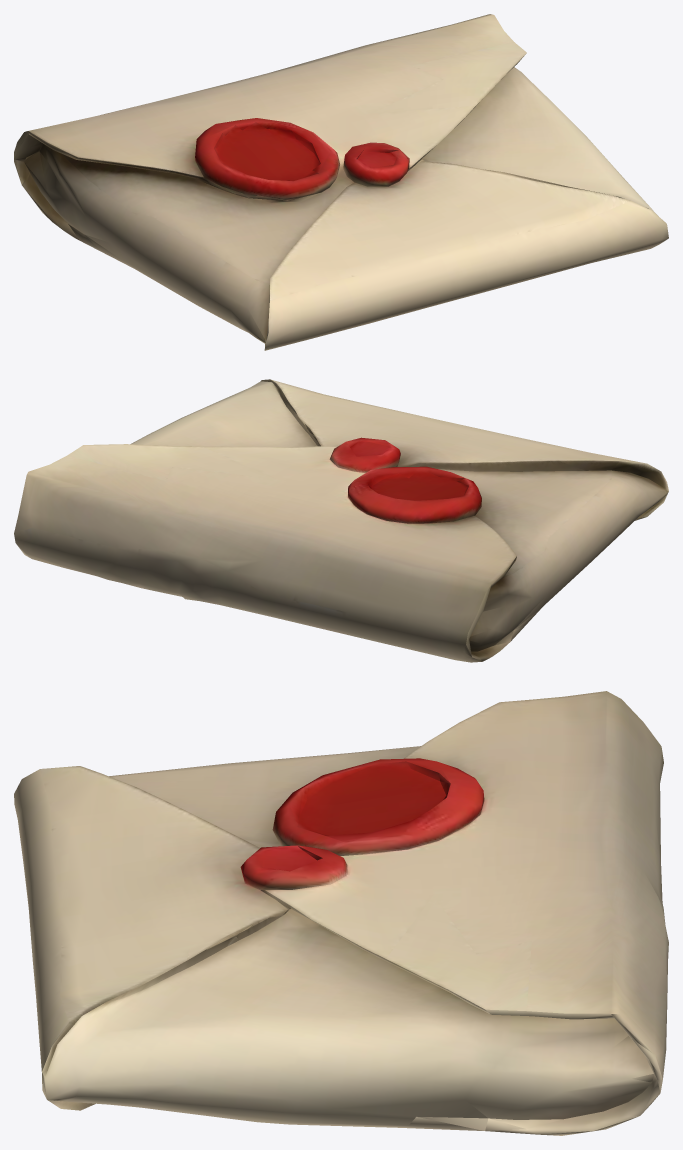
Rendered from letter.glb.
3 renders of one model, top to bottom at view 1: azimuth 30°, elevation 25°; view 2: azimuth 150°, elevation 25°; view 3: azimuth 270°, elevation 25°, orthographic. The views are drawn at different scales.
Parts seen in each view (by area): view 1: model; view 2: model; view 3: model.
Part boxes in pixels (x1=…): model: x1=14, y1=14, x2=668, y2=350; model: x1=14, y1=379, x2=668, y2=662; model: x1=14, y1=691, x2=668, y2=1135.
Bounding box in the file's own units: 1.89 × 0.4094 × 1.61.
Materials: 1 (1 with a texture image).
